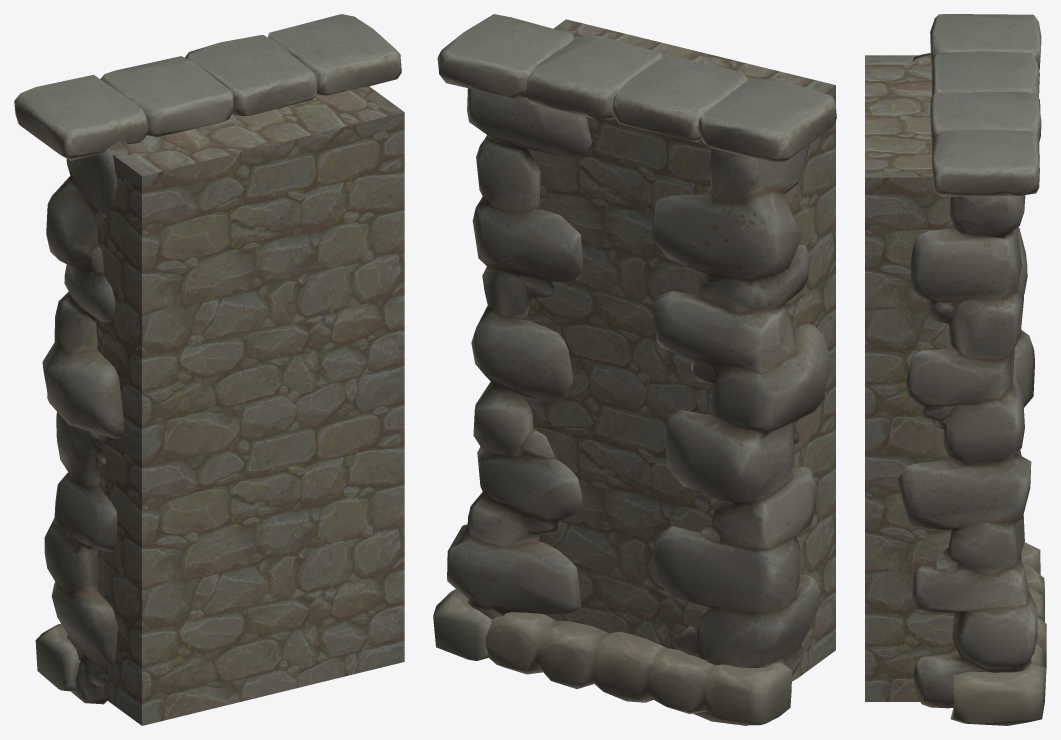
The model's file is SM_FW01_Ruins_Int_Pillar_A_2x4_Half_01.fbx.
3 renders of one model, left to right at view 1: azimuth 30°, elevation 25°; view 2: azimuth 150°, elevation 25°; view 3: azimuth 270°, elevation 25°, orthographic. The views are drawn at different scales.
Parts seen in each view (by area): view 1: SM_FW01_Ruins_Int_Pillar_A_2x4_Half_01, SM_FW01_Ruins_Int_Pillar_A_2x4_Half_01_LOD0; view 2: SM_FW01_Ruins_Int_Pillar_A_2x4_Half_01_LOD0, SM_FW01_Ruins_Int_Pillar_A_2x4_Half_01; view 3: SM_FW01_Ruins_Int_Pillar_A_2x4_Half_01_LOD0, SM_FW01_Ruins_Int_Pillar_A_2x4_Half_01.
Part boxes in pixels (x1,y1,x2,y2): SM_FW01_Ruins_Int_Pillar_A_2x4_Half_01: (95, 86, 404, 725); SM_FW01_Ruins_Int_Pillar_A_2x4_Half_01_LOD0: (14, 14, 401, 704); SM_FW01_Ruins_Int_Pillar_A_2x4_Half_01_LOD0: (433, 14, 836, 725); SM_FW01_Ruins_Int_Pillar_A_2x4_Half_01: (520, 19, 835, 681); SM_FW01_Ruins_Int_Pillar_A_2x4_Half_01_LOD0: (898, 14, 1046, 725); SM_FW01_Ruins_Int_Pillar_A_2x4_Half_01: (865, 55, 958, 701).
Size of what is drawn, in the model's own units: 2.64 by 4.39 by 1.26.
